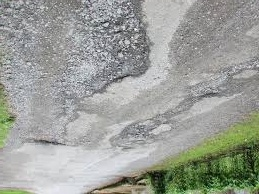pothole: (0, 0, 150, 154), (182, 65, 257, 105), (109, 120, 155, 147), (157, 105, 197, 123)
